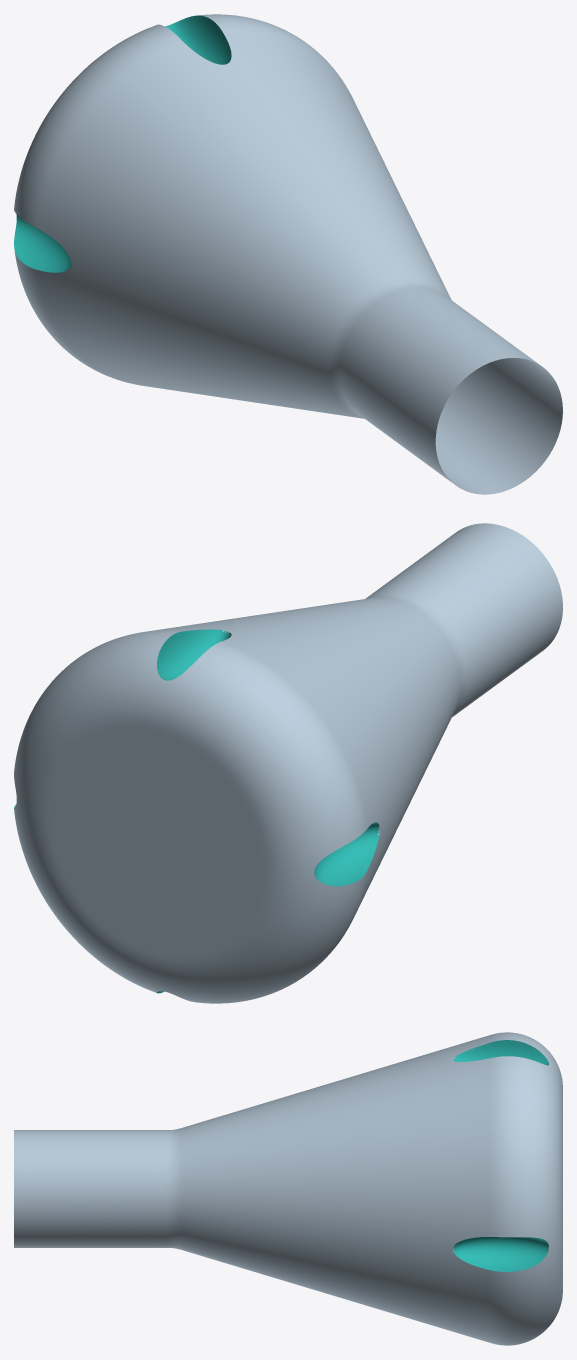
Rendered from glass-baffled.glb.
3 renders of one model, top to bottom at view 1: azimuth 30°, elevation 25°; view 2: azimuth 150°, elevation 25°; view 3: azimuth 270°, elevation 25°, orthographic. The views are drawn at different scales.
Visible parts, largest first — view 1: glass-baffled; view 2: glass-baffled; view 3: glass-baffled.
Part boxes in pixels (bbox=[...]): glass-baffled: bbox=[14, 14, 562, 494]; glass-baffled: bbox=[14, 523, 562, 1003]; glass-baffled: bbox=[14, 1032, 562, 1345].
Bounding box in the file's own units: 0.081 × 0.081 × 0.143.
